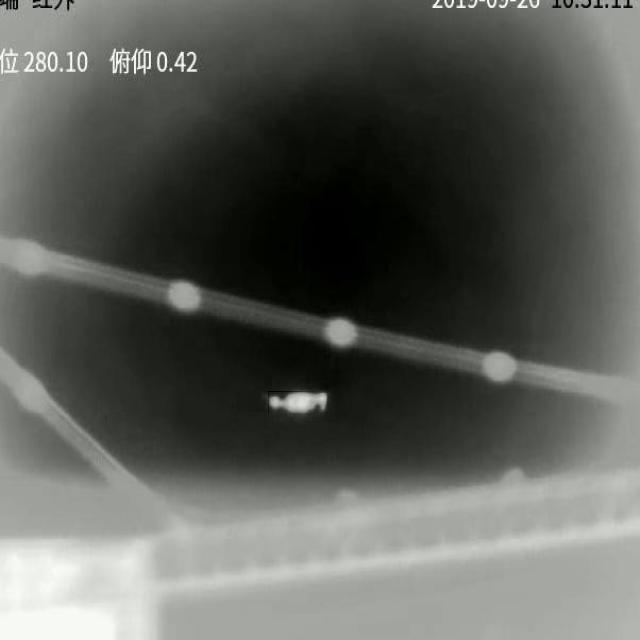drone: (268, 391, 327, 413)
